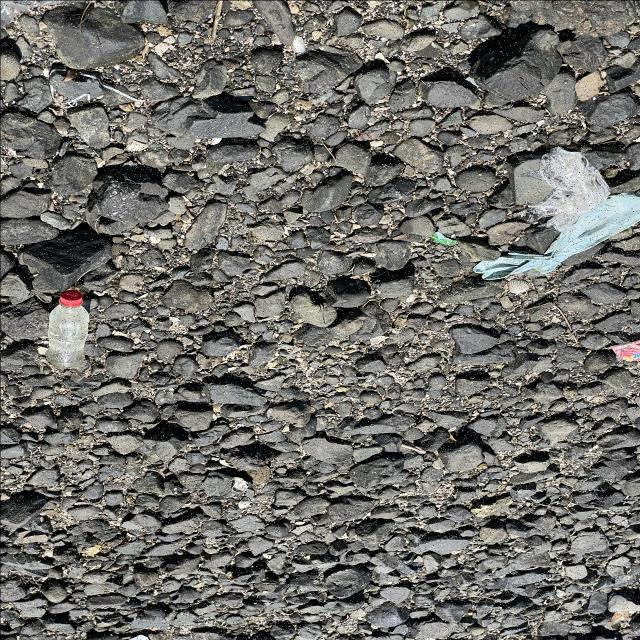plastic_waste: (47, 291, 91, 370), (611, 339, 640, 363), (430, 230, 460, 248)
